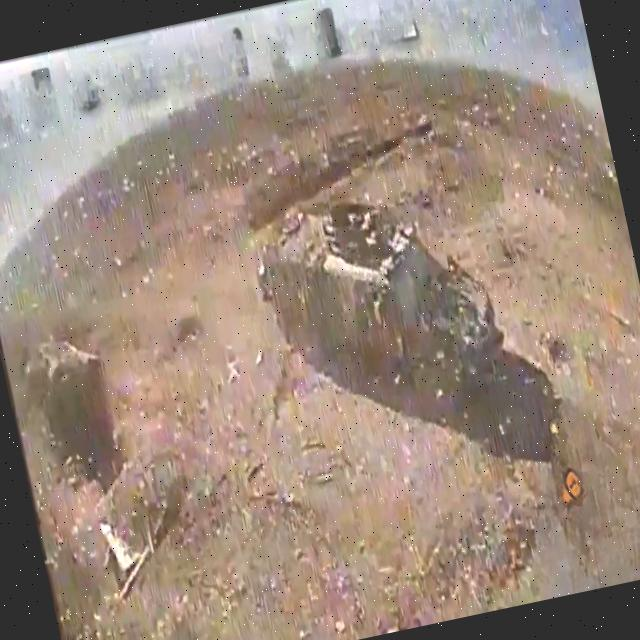Vehicle: (245, 171, 512, 443)
